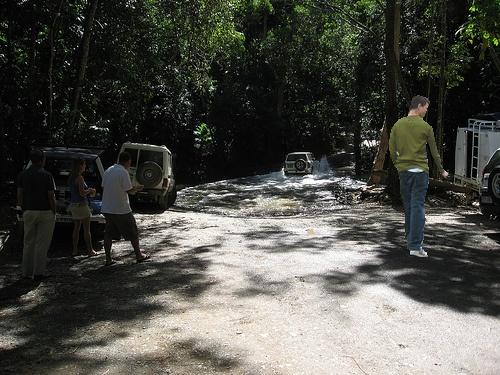tampered: (390, 96, 448, 257)
